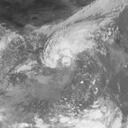cyclone: (42, 25, 91, 70)
